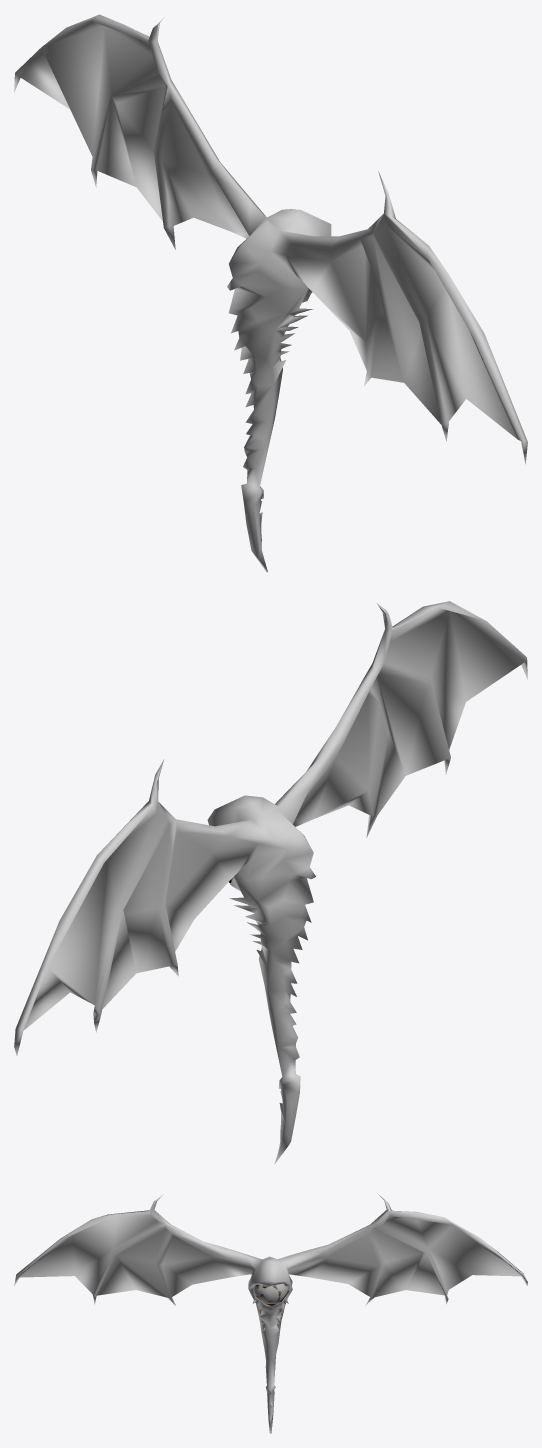
The model's file is BatBinary.fbx.
3 renders of one model, top to bottom at view 1: azimuth 30°, elevation 25°; view 2: azimuth 150°, elevation 25°; view 3: azimuth 270°, elevation 25°, orthographic. The views are drawn at different scales.
Visible parts, largest first — view 1: Eye_ball; view 2: Eye_ball; view 3: Eye_ball, Eye_ball.003.
Boxes of the visible parts, x1,y1,x2,y2 form: Eye_ball: (14,14,527,572); Eye_ball: (14,601,527,1164); Eye_ball: (14,1194,527,1433); Eye_ball.003: (253,1283,288,1305).
Bounding box in the file's own units: 185 × 840 × 1620.
